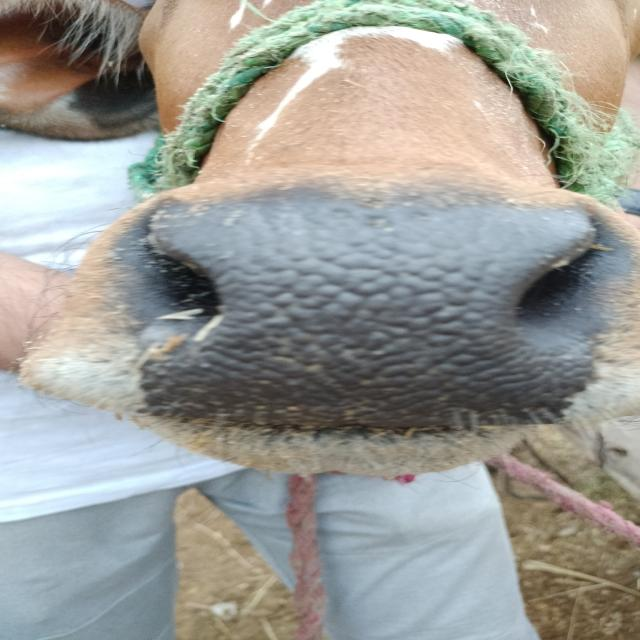muzzles: (87, 188, 640, 442)
